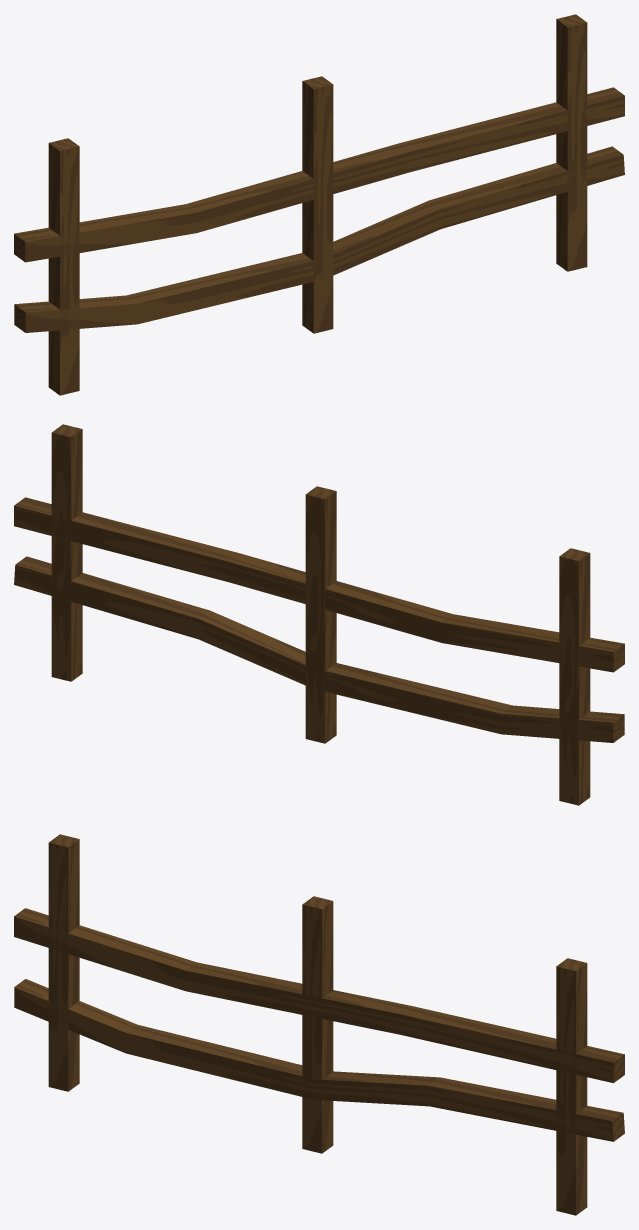
File: Fence.fbx
The picture shows the model from 3 angles, top to bottom: view 1: azimuth 30°, elevation 25°; view 2: azimuth 150°, elevation 25°; view 3: azimuth 330°, elevation 25°; orthographic projection.
Parts seen in each view (by area): view 1: Cube.002; view 2: Cube.002; view 3: Cube.002.
Boxes of the visible parts, x1,y1,x2,y2 form: Cube.002: (14,14,624,395); Cube.002: (14,424,624,805); Cube.002: (14,834,624,1215).
Bounding box in the file's own units: 596 × 232 × 19.57.
1 material, 1 textured.
